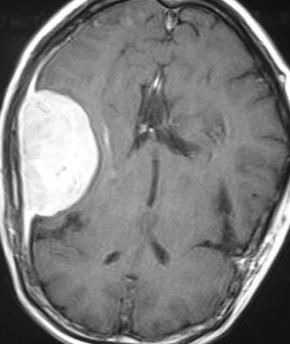Tumour-Meningioma: (1, 56, 126, 236)
